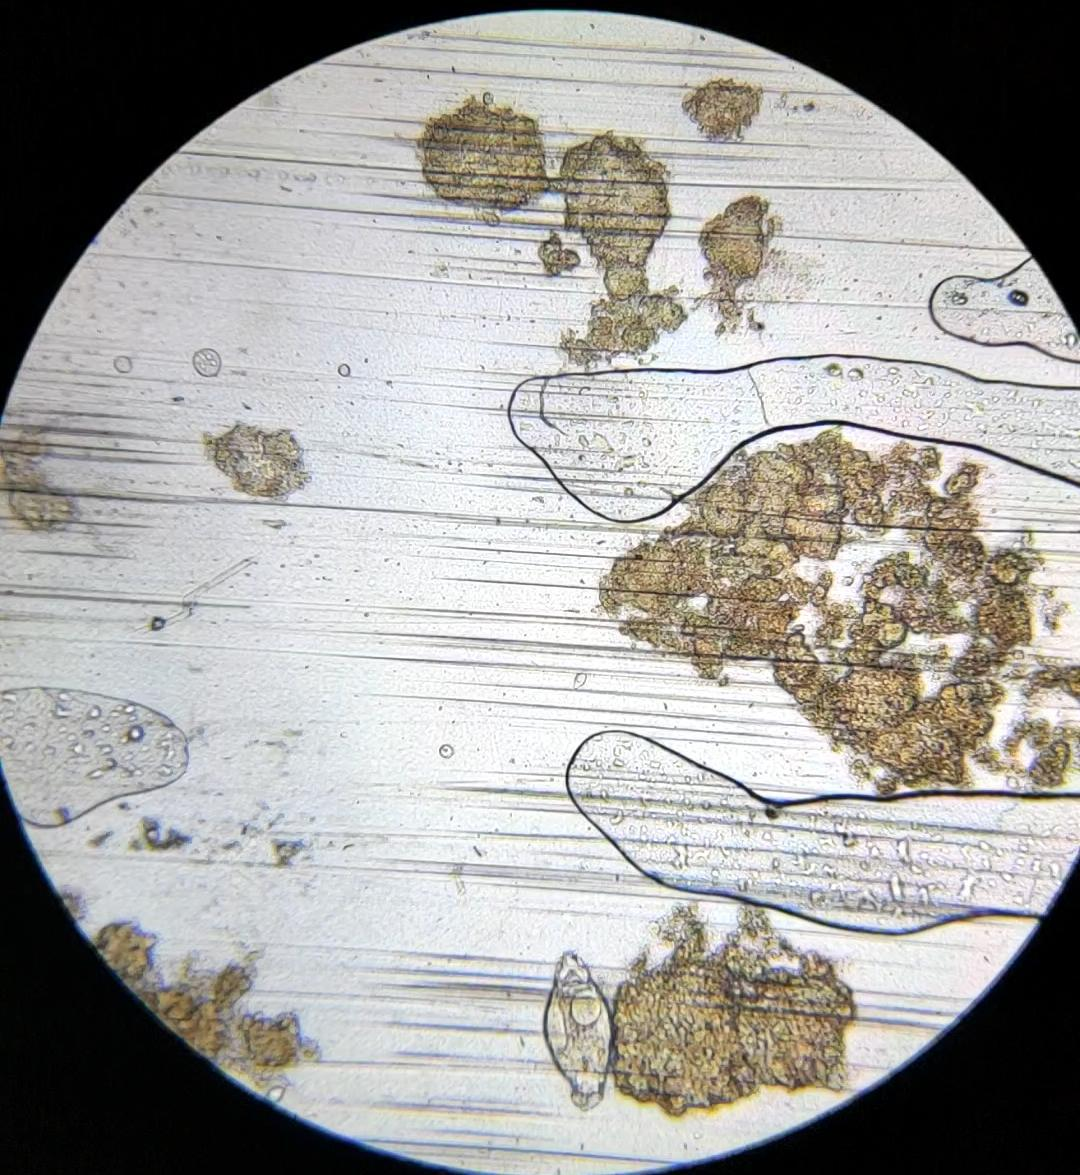Do: (544, 951, 613, 1109)
